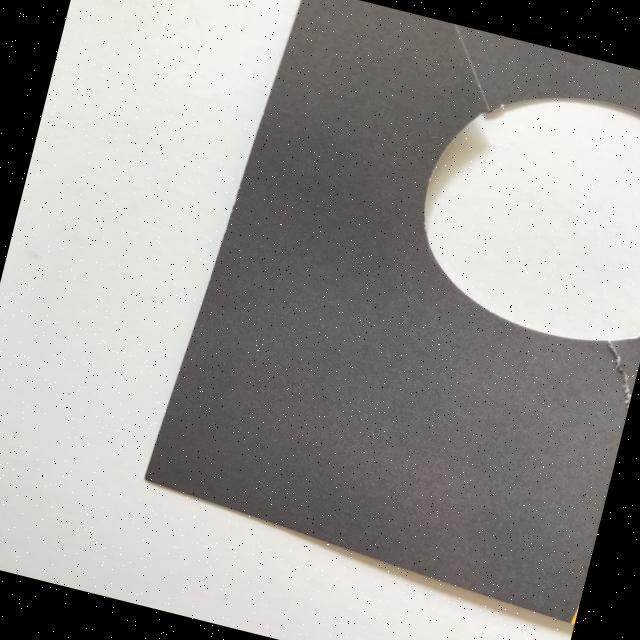paper: (134, 0, 640, 624), (398, 64, 640, 357)
